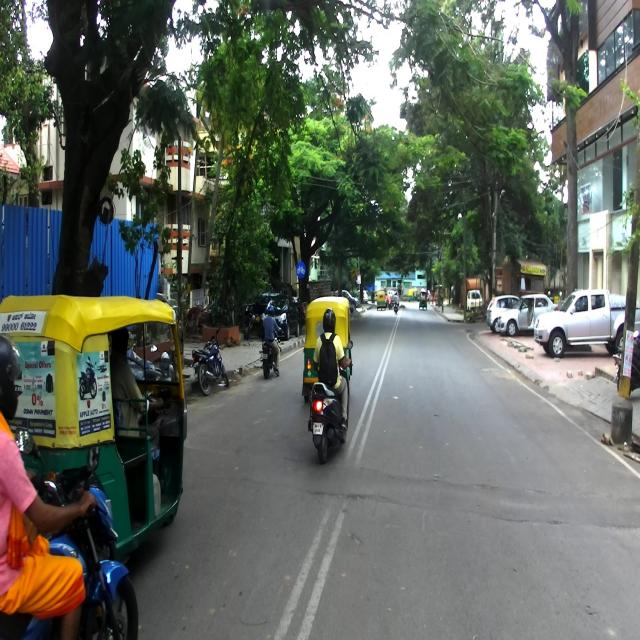Car: (533, 286, 631, 359)
Car_Maruti-Suzuki: (497, 292, 557, 342)
autorickshaw: (0, 293, 186, 557)
scooter: (307, 338, 353, 466)
